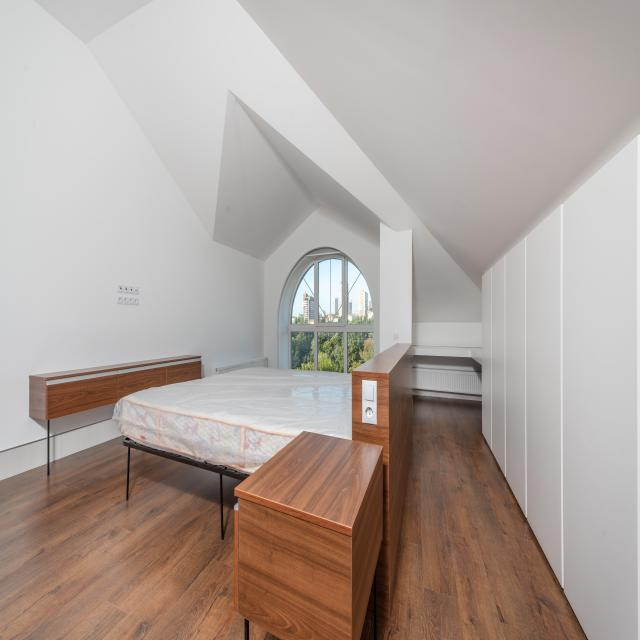floor: (388, 394, 593, 640), (0, 436, 245, 640)
wall: (85, 0, 482, 348), (228, 89, 381, 242), (264, 205, 380, 368), (212, 90, 321, 262), (380, 219, 412, 354), (49, 419, 123, 463), (49, 403, 117, 437), (0, 439, 47, 481)
